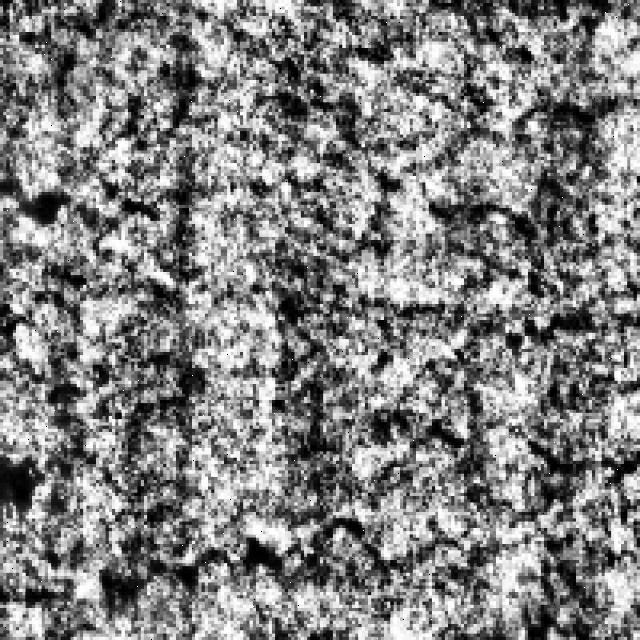Pitted_Surface: (342, 48, 637, 288), (102, 442, 512, 598), (496, 164, 627, 630)
